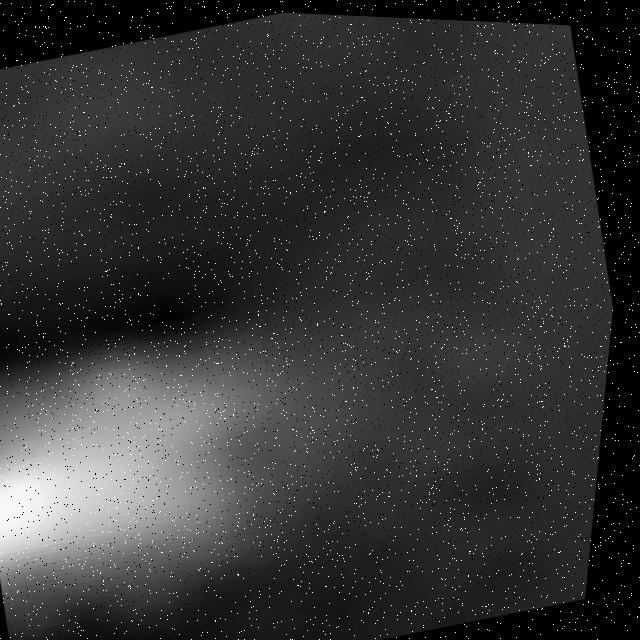person: (1, 282, 379, 640)
